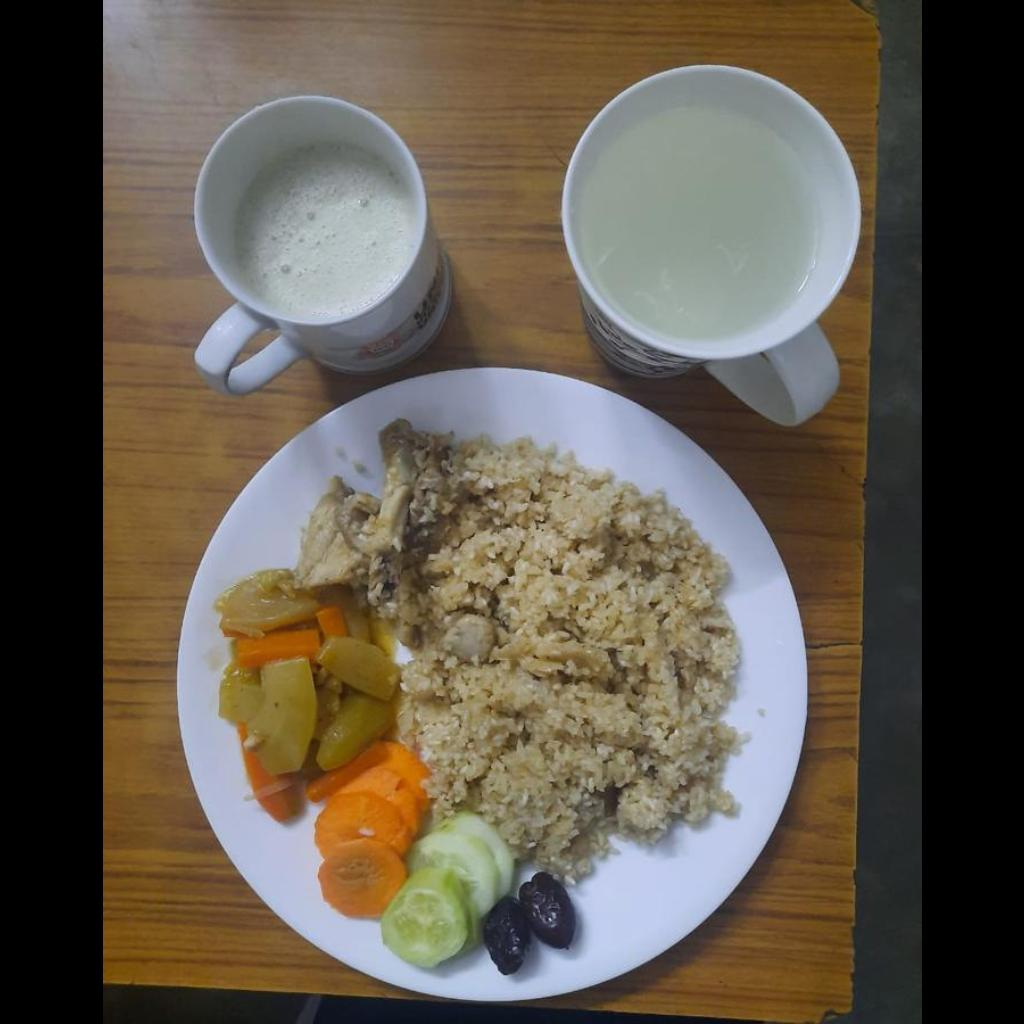biriyani: (293, 421, 740, 882)
carrot: (306, 741, 427, 917)
cucumber: (381, 812, 513, 969)
dates: (482, 872, 575, 975)
juice: (562, 66, 860, 362)
milk: (246, 155, 406, 309)
vegetable: (215, 569, 398, 821)
